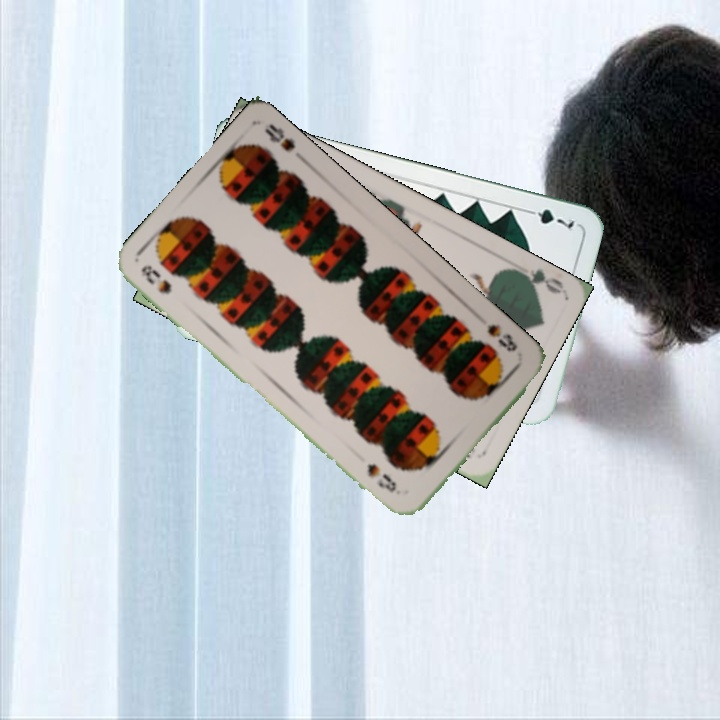G7: (520, 204, 577, 231)
GO: (506, 264, 565, 296)
S8: (137, 261, 174, 297), (483, 320, 520, 355)
